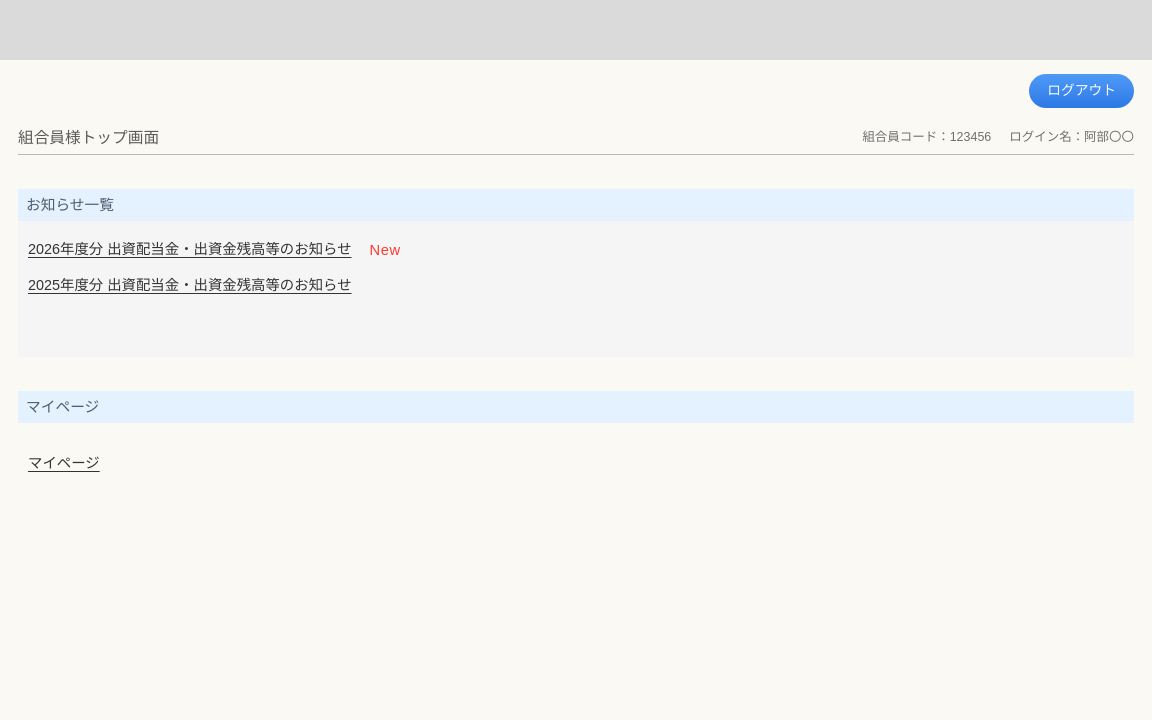
Test: App › logs out from the top page and returns to the login form
This screenshot has width=1152, height=720.
What coordinates should you click on to do the following:
click the button "ログアウト"
I would click on:
 (1082, 91)
Its box is [1029,74,1134,108].
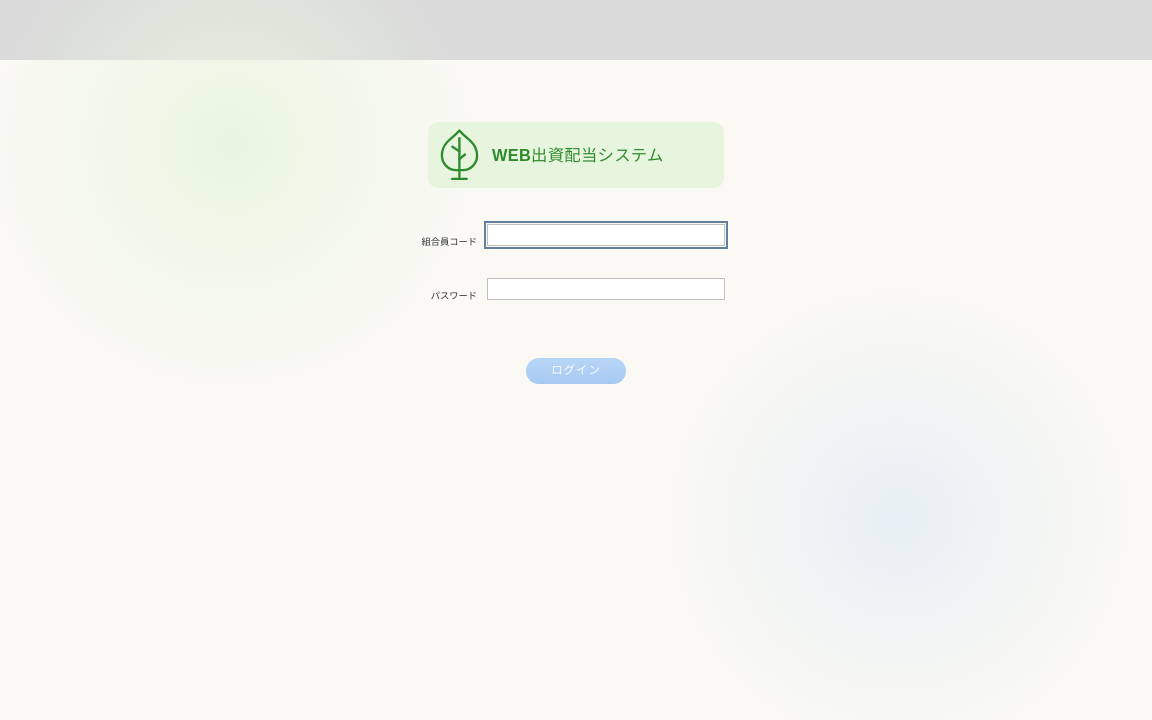
Expected: the heading "WEB出資配当システム" is shown, [492,143,664,167]
